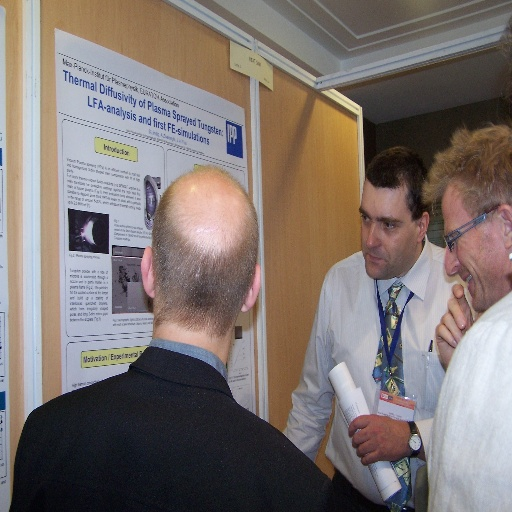hand: (343, 415, 415, 472), (435, 281, 481, 370)
